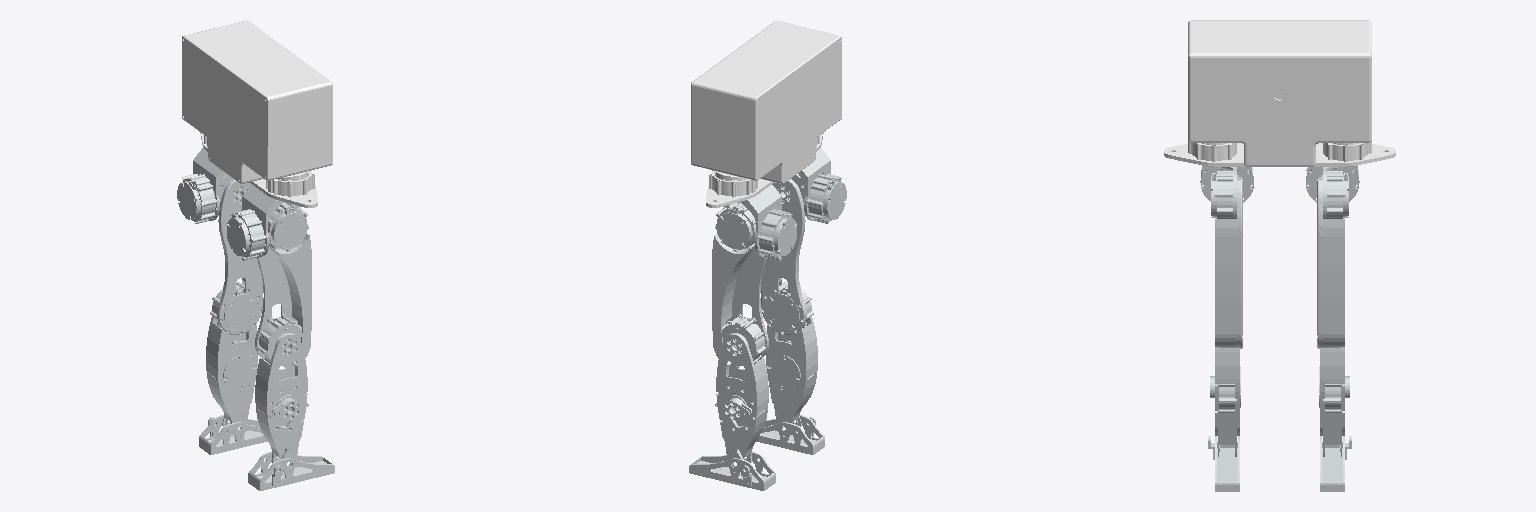
robot.urdf — srobot:
<?xml version="1.0" encoding="utf-8"?>
<!-- This URDF was automatically created by SolidWorks to URDF Exporter! Originally created by [author] ([email redacted]) 
     Commit Version: 1.6.0-4-g7f85cfe  Build Version: 1.6.7995.38578
     For more information, please see http://wiki.ros.org/sw_urdf_exporter -->
<robot
  name="srobot">
  <link
    name="base_link">
    <inertial>
      <origin
        xyz="-0.0052399 0.0030322 0.06194"
        rpy="0 0 0" />
      <mass
        value="1.9856" />
      <inertia
        ixx="0.016857"
        ixy="-5.1604E-05"
        ixz="0.00031767"
        iyy="0.0084928"
        iyz="-0.00018312"
        izz="0.011033" />
    </inertial>
    <visual>
      <origin
        xyz="0 0 0"
        rpy="0 0 0" />
      <geometry>
        <mesh
          filename="../meshes/base_link.STL" />
      </geometry>
      <material
        name="">
        <color
          rgba="1 1 1 1" />
      </material>
    </visual>
    <collision>
      <origin
        xyz="0 0 0"
        rpy="0 0 0" />
      <geometry>
        <mesh
          filename="../meshes/base_link.STL" />
      </geometry>
    </collision>
  </link>
  <!-- <joint name="fixed_base_joint" type="fixed">
    <parent link="world"/>
    <child link="base_link"/>
    <origin xyz="0 0 0" rpy="0 0 0"/>
  </joint> -->
  <link
    name="LeftHipYaw_Link">
    <inertial>
      <origin
        xyz="-0.060922 -9.4557E-05 0.011012"
        rpy="0 0 0" />
      <mass
        value="0.44642" />
      <inertia
        ixx="0.00054338"
        ixy="-4.3815E-07"
        ixz="-0.00015201"
        iyy="0.00052172"
        iyz="8.4404E-07"
        izz="0.00031683" />
    </inertial>
    <visual>
      <origin
        xyz="0 0 0"
        rpy="0 0 0" />
      <geometry>
        <mesh
          filename="../meshes/LeftHipYaw_Link.STL" />
      </geometry>
      <material
        name="">
        <color
          rgba="0.89804 0.91765 0.92941 1" />
      </material>
    </visual>
    <!-- <collision>
      <origin
        xyz="0 0 0"
        rpy="0 0 0" />
      <geometry>
        <mesh
          filename="../meshes/LeftHipYaw_Link.STL" />
      </geometry>
    </collision> -->
  </link>
  <joint
    name="LeftHipYaw_Joint"
    type="revolute">
    <origin
      xyz="0 0.08 -0.071"
      rpy="0 0 0" />
    <parent
      link="base_link" />
    <child
      link="LeftHipYaw_Link" />
    <axis
      xyz="0 0 1" />
    <limit
      lower="-1.047"
      upper="1.047"
      effort="12"
      velocity="21" />
  </joint>
  <link
    name="LeftHipRoll_Link">
    <inertial>
      <origin
        xyz="-0.0042849 0.0019858 0.00027606"
        rpy="0 0 0" />
      <mass
        value="0.39533" />
      <inertia
        ixx="0.00018565"
        ixy="-4.4477E-06"
        ixz="-4.3542E-07"
        iyy="0.00033725"
        iyz="-4.5526E-07"
        izz="0.00022612" />
    </inertial>
    <visual>
      <origin
        xyz="0 0 0"
        rpy="0 0 0" />
      <geometry>
        <mesh
          filename="../meshes/LeftHipRoll_Link.STL" />
      </geometry>
      <material
        name="">
        <color
          rgba="0.89804 0.91765 0.92941 1" />
      </material>
    </visual>
    <!-- <collision>
      <origin
        xyz="0 0 0"
        rpy="0 0 0" />
      <geometry>
        <mesh
          filename="../meshes/LeftHipRoll_Link.STL" />
      </geometry>
    </collision> -->
  </link>
  <joint
    name="LeftHipRoll_Joint"
    type="revolute">
    <origin
      xyz="0 0 0"
      rpy="0 0 0" />
    <parent
      link="LeftHipYaw_Link" />
    <child
      link="LeftHipRoll_Link" />
    <axis
      xyz="1 0 0" />
    <limit
      lower="-0.785"
      upper="0.785"
      effort="12"
      velocity="21" />
  </joint>
  <link
    name="LeftHipPitch_Link">
    <inertial>
      <origin
        xyz="0.0048561 -0.0056835 -0.16396"
        rpy="0 0 0" />
      <mass
        value="0.54469" />
      <inertia
        ixx="0.002935"
        ixy="-2.3871E-05"
        ixz="-0.00013105"
        iyy="0.0031112"
        iyz="9.4828E-05"
        izz="0.00033333" />
    </inertial>
    <visual>
      <origin
        xyz="0 0 0"
        rpy="0 0 0" />
      <geometry>
        <mesh
          filename="../meshes/LeftHipPitch_Link.STL" />
      </geometry>
      <material
        name="">
        <color
          rgba="0.89804 0.91765 0.92941 1" />
      </material>
    </visual>
    <collision>
      <origin
        xyz="0 0 0"
        rpy="0 0 0" />
      <geometry>
        <mesh
          filename="../meshes/LeftHipPitch_Link.STL" />
      </geometry>
    </collision>
  </link>
  <joint
    name="LeftHipPitch_Joint"
    type="revolute">
    <origin
      xyz="0 0 0"
      rpy="0 0 0" />
    <parent
      link="LeftHipRoll_Link" />
    <child
      link="LeftHipPitch_Link" />
    <axis
      xyz="0 1 0" />
    <limit
      lower="-1.571"
      upper="0"
      effort="12"
      velocity="21" />
  </joint>
  <link
    name="LeftKnee_Link">
    <inertial>
      <origin
        xyz="-0.0012025 0.0014243 -0.10846"
        rpy="0 0 0" />
      <mass
        value="0.50869" />
      <inertia
        ixx="0.00087747"
        ixy="-2.6834E-07"
        ixz="7.3209E-06"
        iyy="0.0010149"
        iyz="-3.5127E-05"
        izz="0.00027608" />
    </inertial>
    <visual>
      <origin
        xyz="0 0 0"
        rpy="0 0 0" />
      <geometry>
        <mesh
          filename="../meshes/LeftKnee_Link.STL" />
      </geometry>
      <material
        name="">
        <color
          rgba="0.89804 0.91765 0.92941 1" />
      </material>
    </visual>
    <!-- <collision>
      <origin
        xyz="0 0 0"
        rpy="0 0 0" />
      <geometry>
        <mesh
          filename="../meshes/LeftKnee_Link.STL" />
      </geometry>
    </collision> -->
    <collision>
      <origin
        xyz="0 0 -0.12"
        rpy="0 0 0" />
      <geometry>
        <cylinder radius="0.02" length="0.10" />
      </geometry>
    </collision>
  </link>
  <joint
    name="LeftKnee_Joint"
    type="revolute">
    <origin
      xyz="-0.001 0 -0.21"
      rpy="0 0 0" />
    <parent
      link="LeftHipPitch_Link" />
    <child
      link="LeftKnee_Link" />
    <axis
      xyz="0 1 0" />
    <limit
      lower="-0"
      upper="2.618"
      effort="12"
      velocity="21" />
  </joint>
  <link
    name="LeftAnkle_Link">
    <inertial>
      <origin
        xyz="0.010557 0.00021294 -0.022631"
        rpy="0 0 0" />
      <mass
        value="0.1402" />
      <inertia
        ixx="4.4086E-05"
        ixy="1.2664E-06"
        ixz="1.2438E-05"
        iyy="0.00023566"
        iyz="-3.5986E-07"
        izz="0.00024662" />
    </inertial>
    <visual>
      <origin
        xyz="0 0 0"
        rpy="0 0 0" />
      <geometry>
        <mesh
          filename="../meshes/LeftAnkle_Link.STL" />
      </geometry>
      <material
        name="">
        <color
          rgba="0.89804 0.91765 0.92941 1" />
      </material>
    </visual>
    <collision>
      <origin
        xyz="0 0 0"
        rpy="0 0 0" />
      <geometry>
        <mesh
          filename="../meshes/LeftAnkle_Link.STL" />
      </geometry>
    </collision>
  </link>
  <joint
    name="LeftAnkle_Joint"
    type="revolute">
    <origin
      xyz="0 0 -0.21"
      rpy="0 0 0" />
    <parent
      link="LeftKnee_Link" />
    <child
      link="LeftAnkle_Link" />
    <axis
      xyz="0 1 0" />
    <limit
      lower="-1.571"
      upper="1.571"
      effort="12"
      velocity="21" />
  </joint>
  <link
    name="RightHipYaw_Link">
    <inertial>
      <origin
        xyz="-0.060922 9.4554E-05 0.011012"
        rpy="0 0 0" />
      <mass
        value="0.44642" />
      <inertia
        ixx="0.00054338"
        ixy="4.3815E-07"
        ixz="-0.000152"
        iyy="0.00052172"
        iyz="-8.4394E-07"
        izz="0.00031683" />
    </inertial>
    <visual>
      <origin
        xyz="0 0 0"
        rpy="0 0 0" />
      <geometry>
        <mesh
          filename="../meshes/RightHipYaw_Link.STL" />
      </geometry>
      <material
        name="">
        <color
          rgba="0.89804 0.91765 0.92941 1" />
      </material>
    </visual>
    <!-- <collision>
      <origin
        xyz="0 0 0"
        rpy="0 0 0" />
      <geometry>
        <mesh
          filename="../meshes/RightHipYaw_Link.STL" />
      </geometry>
    </collision> -->
  </link>
  <joint
    name="RightHipYaw_Joint"
    type="revolute">
    <origin
      xyz="0 -0.08 -0.071"
      rpy="0 0 0" />
    <parent
      link="base_link" />
    <child
      link="RightHipYaw_Link" />
    <axis
      xyz="0 0 1" />
    <limit
      lower="-1.047"
      upper="1.047"
      effort="12"
      velocity="21" />
  </joint>
  <link
    name="RightHipRoll_Link">
    <inertial>
      <origin
        xyz="-0.0042849 -0.0019858 0.00027605"
        rpy="0 0 0" />
      <mass
        value="0.39533" />
      <inertia
        ixx="0.00018565"
        ixy="4.4477E-06"
        ixz="-4.3593E-07"
        iyy="0.00033725"
        iyz="4.5526E-07"
        izz="0.00022612" />
    </inertial>
    <visual>
      <origin
        xyz="0 0 0"
        rpy="0 0 0" />
      <geometry>
        <mesh
          filename="../meshes/RightHipRoll_Link.STL" />
      </geometry>
      <material
        name="">
        <color
          rgba="0.89804 0.91765 0.92941 1" />
      </material>
    </visual>
    <!-- <collision>
      <origin
        xyz="0 0 0"
        rpy="0 0 0" />
      <geometry>
        <mesh
          filename="../meshes/RightHipRoll_Link.STL" />
      </geometry>
    </collision> -->
  </link>
  <joint
    name="RightHipRoll_Joint"
    type="revolute">
    <origin
      xyz="0 0 0"
      rpy="0 0 0" />
    <parent
      link="RightHipYaw_Link" />
    <child
      link="RightHipRoll_Link" />
    <axis
      xyz="1 0 0" />
    <limit
      lower="-0.785"
      upper="0.785"
      effort="12"
      velocity="21" />
  </joint>
  <link
    name="RightHipPitch_Link">
    <inertial>
      <origin
        xyz="0.0048561 0.0056835 -0.16396"
        rpy="0 0 0" />
      <mass
        value="0.54469" />
      <inertia
        ixx="0.002935"
        ixy="2.3871E-05"
        ixz="-0.00013105"
        iyy="0.0031112"
        iyz="-9.4828E-05"
        izz="0.00033333" />
    </inertial>
    <visual>
      <origin
        xyz="0 0 0"
        rpy="0 0 0" />
      <geometry>
        <mesh
          filename="../meshes/RightHipPitch_Link.STL" />
      </geometry>
      <material
        name="">
        <color
          rgba="0.89804 0.91765 0.92941 1" />
      </material>
    </visual>
    <collision>
      <origin
        xyz="0 0 0"
        rpy="0 0 0" />
      <geometry>
        <mesh
          filename="../meshes/RightHipPitch_Link.STL" />
      </geometry>
    </collision>
  </link>
  <joint
    name="RightHipPitch_Joint"
    type="revolute">
    <origin
      xyz="0 0 0"
      rpy="0 0 0" />
    <parent
      link="RightHipRoll_Link" />
    <child
      link="RightHipPitch_Link" />
    <axis
      xyz="0 1 0" />
    <limit
      lower="-1.571"
      upper="0"
      effort="12"
      velocity="21" />
  </joint>
  <link
    name="RightKnee_Link">
    <inertial>
      <origin
        xyz="-0.0012024 -0.0014243 -0.10846"
        rpy="0 0 0" />
      <mass
        value="0.50869" />
      <inertia
        ixx="0.00087747"
        ixy="2.6838E-07"
        ixz="7.3208E-06"
        iyy="0.0010149"
        iyz="3.5127E-05"
        izz="0.00027608" />
    </inertial>
    <visual>
      <origin
        xyz="0 0 0"
        rpy="0 0 0" />
      <geometry>
        <mesh
          filename="../meshes/RightKnee_Link.STL" />
      </geometry>
      <material
        name="">
        <color
          rgba="0.89804 0.91765 0.92941 1" />
      </material>
    </visual>
    <!-- <collision>
      <origin
        xyz="0 0 0"
        rpy="0 0 0" />
      <geometry>
        <mesh
          filename="../meshes/RightKnee_Link.STL" />
      </geometry>
    </collision> -->
    <collision>
      <origin
        xyz="0 0 -0.12"
        rpy="0 0 0" />
      <geometry>
        <cylinder radius="0.02" length="0.10" />
      </geometry>
    </collision>
  </link>
  <joint
    name="RightKnee_Joint"
    type="revolute">
    <origin
      xyz="-0.001 0 -0.21"
      rpy="0 0 0" />
    <parent
      link="RightHipPitch_Link" />
    <child
      link="RightKnee_Link" />
    <axis
      xyz="0 1 0" />
    <limit
      lower="-0"
      upper="2.618"
      effort="12"
      velocity="21" />
  </joint>
  <link
    name="RightAnkle_Link">
    <inertial>
      <origin
        xyz="0.010557 -0.00021294 -0.022631"
        rpy="0 0 0" />
      <mass
        value="0.1402" />
      <inertia
        ixx="4.4086E-05"
        ixy="-1.2664E-06"
        ixz="1.2436E-05"
        iyy="0.00023566"
        iyz="3.5986E-07"
        izz="0.00024662" />
    </inertial>
    <visual>
      <origin
        xyz="0 0 0"
        rpy="0 0 0" />
      <geometry>
        <mesh
          filename="../meshes/RightAnkle_Link.STL" />
      </geometry>
      <material
        name="">
        <color
          rgba="0.89804 0.91765 0.92941 1" />
      </material>
    </visual>
    <collision>
      <origin
        xyz="0 0 0"
        rpy="0 0 0" />
      <geometry>
        <mesh
          filename="../meshes/RightAnkle_Link.STL" />
      </geometry>
    </collision>
  </link>
  <joint
    name="RightAnkle_Joint"
    type="revolute">
    <origin
      xyz="0 0 -0.21"
      rpy="0 0 0" />
    <parent
      link="RightKnee_Link" />
    <child
      link="RightAnkle_Link" />
    <axis
      xyz="0 1 0" />
    <limit
      lower="-1.571"
      upper="1.571"
      effort="12"
      velocity="21" />
  </joint>
</robot>

--- Facts derived from the render (not from the file) ---
3 views of the same robot in one strip: view 1: azimuth 30°, elevation 25°; view 2: azimuth 150°, elevation 25°; view 3: azimuth 270°, elevation 25° (orthographic).
Model srobot with 11 links and 10 joints (10 revolute), rooted at base_link, posed all joints at 0.
Visible links, largest first — view 1: base_link, RightHipPitch_Link, RightKnee_Link, LeftHipPitch_Link, LeftKnee_Link, RightHipYaw_Link, LeftHipYaw_Link, RightAnkle_Link, LeftAnkle_Link, RightHipRoll_Link; view 2: base_link, LeftHipPitch_Link, LeftKnee_Link, RightHipPitch_Link, RightKnee_Link, LeftHipYaw_Link, RightHipYaw_Link, LeftAnkle_Link, RightAnkle_Link, LeftHipRoll_Link; view 3: base_link, LeftHipPitch_Link, RightHipPitch_Link, LeftKnee_Link, RightKnee_Link, LeftHipRoll_Link, RightHipRoll_Link, LeftAnkle_Link, RightAnkle_Link, LeftHipYaw_Link, RightHipYaw_Link.
Link boxes in pixels (box(x1,y1,x2,y2)): base_link: box(182, 20, 332, 207); RightHipPitch_Link: box(255, 234, 311, 367); RightKnee_Link: box(255, 333, 308, 465); LeftHipPitch_Link: box(210, 179, 262, 334); LeftKnee_Link: box(206, 316, 257, 434); RightHipYaw_Link: box(227, 185, 282, 260); LeftHipYaw_Link: box(177, 148, 225, 223); RightAnkle_Link: box(248, 451, 334, 490); LeftAnkle_Link: box(199, 415, 267, 454); RightHipRoll_Link: box(268, 202, 308, 251); base_link: box(691, 20, 841, 207); LeftHipPitch_Link: box(712, 234, 768, 367); LeftKnee_Link: box(715, 333, 768, 465); RightHipPitch_Link: box(761, 179, 813, 334); RightKnee_Link: box(766, 316, 817, 434); LeftHipYaw_Link: box(741, 185, 796, 260); RightHipYaw_Link: box(798, 148, 846, 223); LeftAnkle_Link: box(689, 451, 775, 490); RightAnkle_Link: box(756, 415, 824, 454); LeftHipRoll_Link: box(715, 202, 755, 251); base_link: box(1164, 20, 1395, 166); LeftHipPitch_Link: box(1317, 177, 1344, 348); RightHipPitch_Link: box(1215, 177, 1242, 348); LeftKnee_Link: box(1319, 347, 1349, 456); RightKnee_Link: box(1210, 347, 1240, 456); LeftHipRoll_Link: box(1321, 167, 1348, 218); RightHipRoll_Link: box(1211, 167, 1238, 218); LeftAnkle_Link: box(1320, 436, 1351, 491); RightAnkle_Link: box(1208, 436, 1239, 491); LeftHipYaw_Link: box(1306, 165, 1359, 202); RightHipYaw_Link: box(1200, 165, 1253, 202).
Bounding box of the posed robot: 0.1735 × 0.3533 × 0.722 m (x, y, z).
Meshes: 11 distinct files referenced, 11 mesh visuals loaded (11 binary STL).